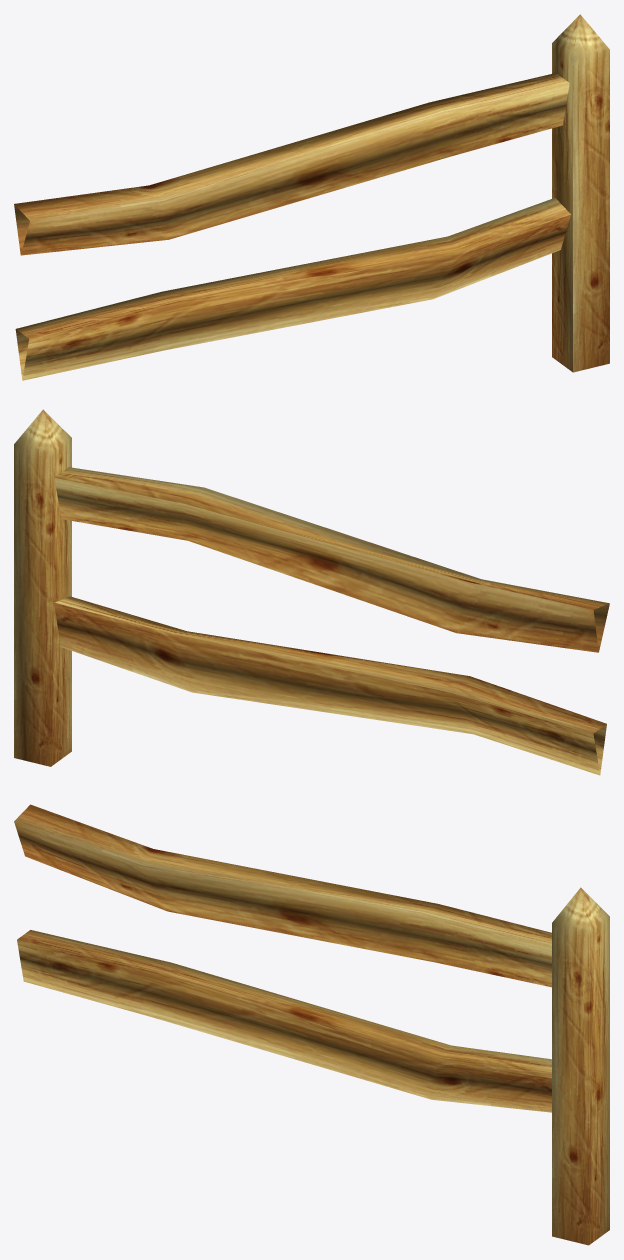
File: elwynnwoodfence01.glb
The picture shows the model from 3 angles, top to bottom: view 1: azimuth 30°, elevation 25°; view 2: azimuth 150°, elevation 25°; view 3: azimuth 330°, elevation 25°; orthographic projection.
Size of the model in its own units: 4.3 by 2.46 by 0.3142.
1 material, 1 textured.
